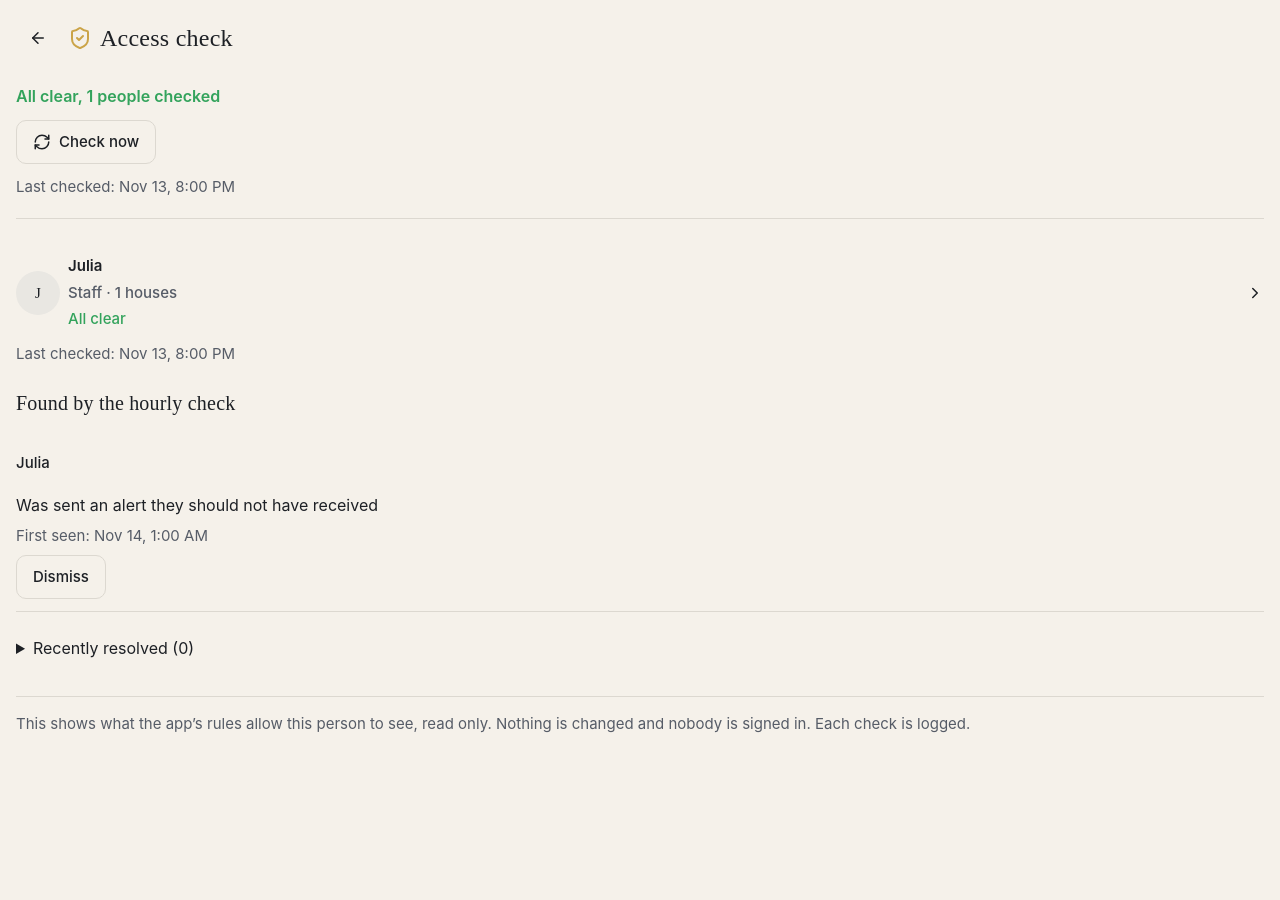
Access check page › refreshes only the opened person alongside the existing report
expect the text "All clear, 1 people checked" is shown: met, box [16, 86, 220, 106]
Click the button "J Julia Staff · 1 houses All clear" at coordinates (38, 293), box [16, 243, 1264, 343]
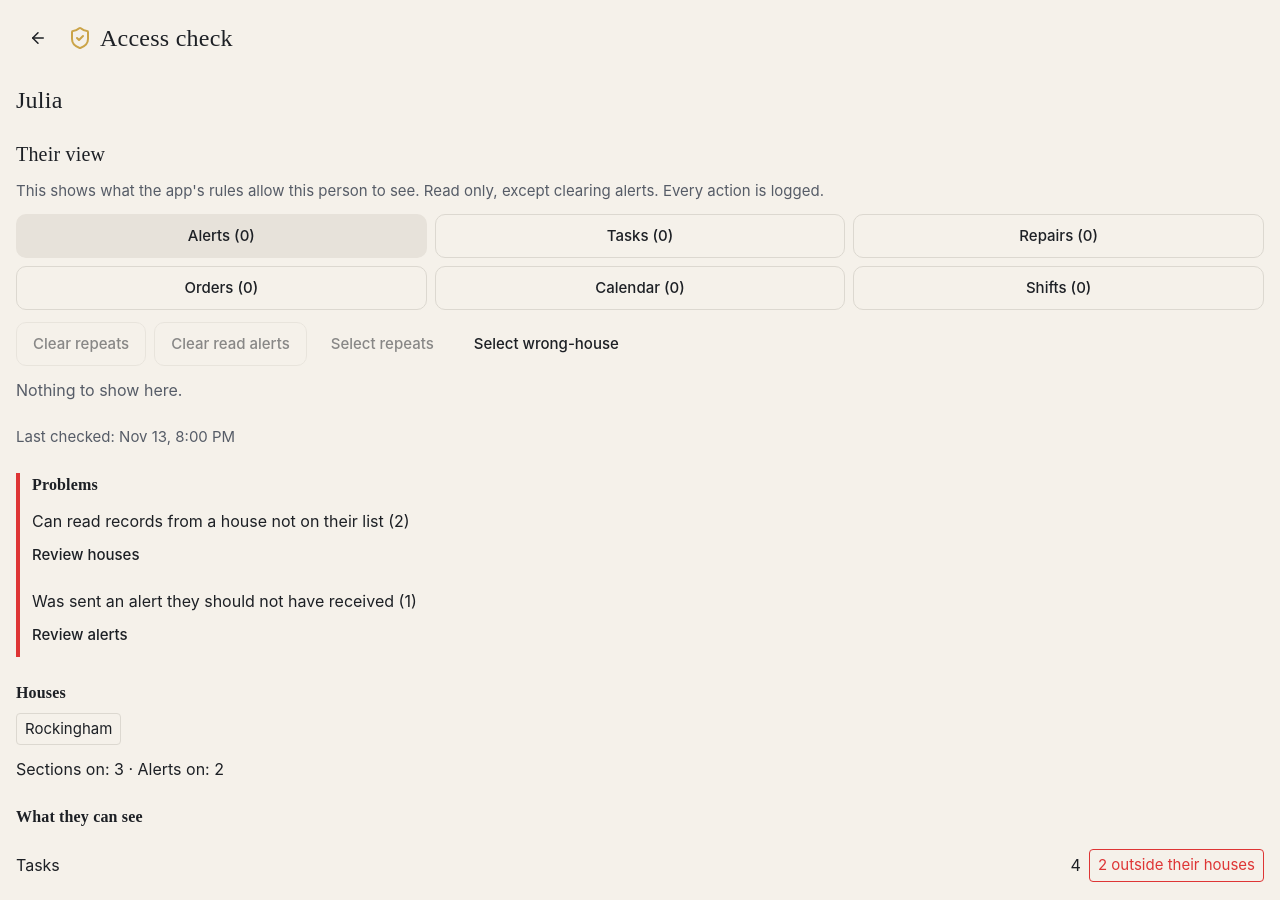
expect the heading "What they can see" is shown: met, box [16, 808, 143, 825]
